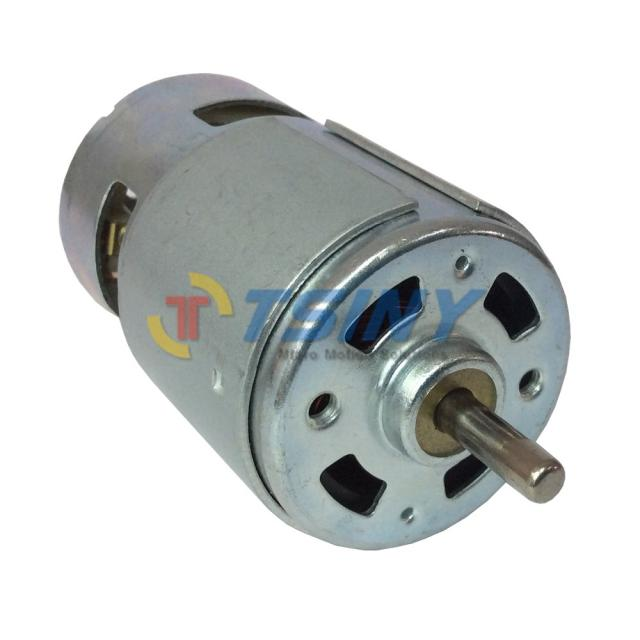motor: (57, 63, 580, 532)
